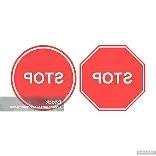Stop: (81, 45, 145, 109), (12, 45, 76, 109)
